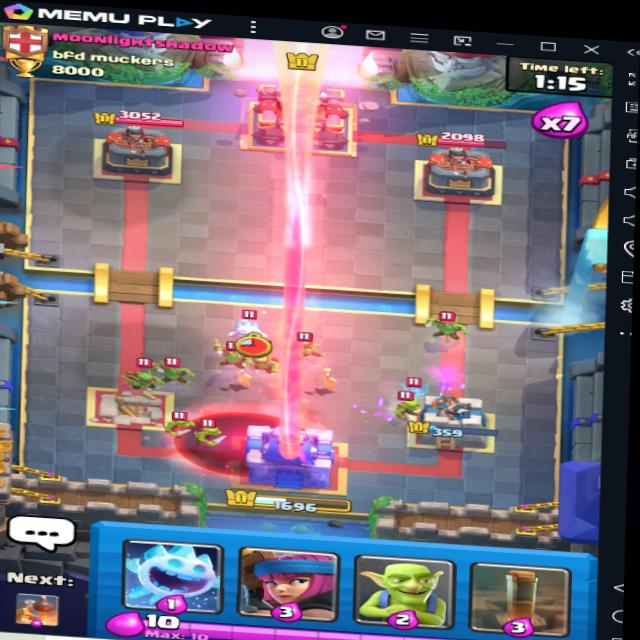goblin: (190, 417, 229, 446), (166, 407, 204, 436), (391, 394, 422, 424)
ice-spirit: (223, 309, 267, 340)
spear-goblin: (427, 314, 475, 349), (290, 332, 333, 364), (149, 354, 187, 387), (121, 355, 156, 386), (215, 342, 251, 365), (255, 353, 280, 376)
void: (172, 407, 309, 483)
